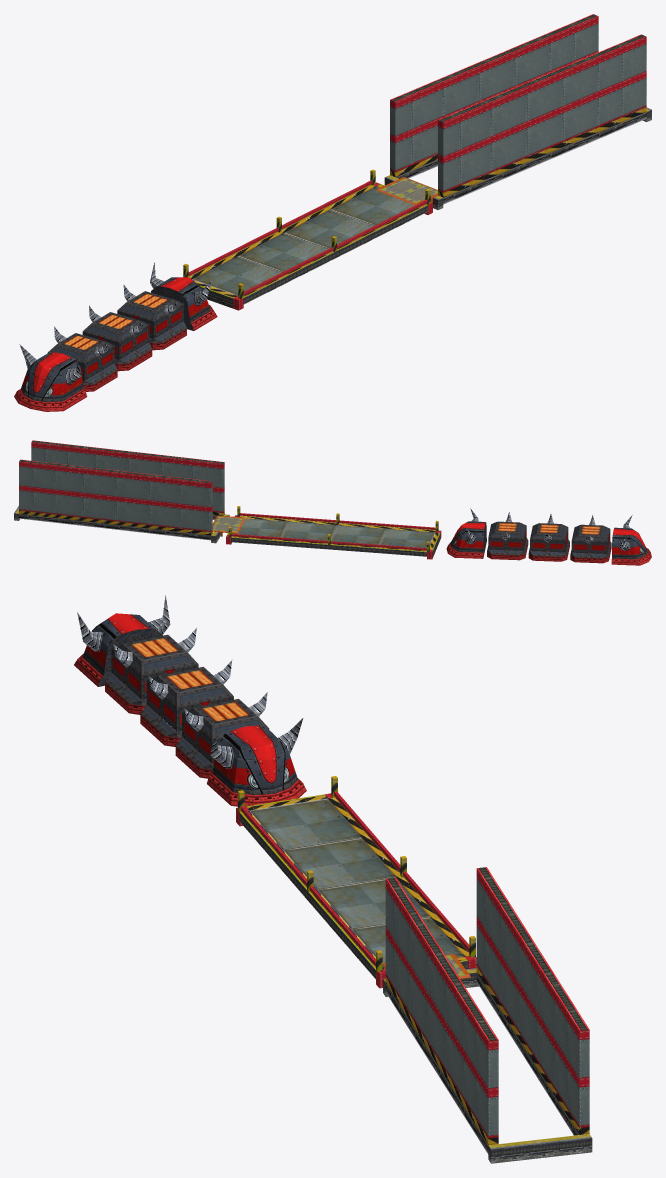
Rendered from Mad_express5.obj.
3 views of the same model, one above another, from view 1: azimuth 30°, elevation 25°; view 2: azimuth 150°, elevation 25°; view 3: azimuth 270°, elevation 25° (orthographic). The views are drawn at different scales.
Parts seen in each view (by area): view 1: obj1, Object_2; view 2: obj1, Object_2; view 3: obj1, Object_2.
Boxes of the visible parts, x1,y1,x2,y2 form: obj1: (188, 14, 651, 310); Object_2: (14, 169, 430, 411); obj1: (14, 440, 441, 559); Object_2: (228, 506, 651, 565); obj1: (236, 793, 592, 1163); Object_2: (74, 595, 475, 971).
Size of the model in its own units: 1169 by 126 by 495.
